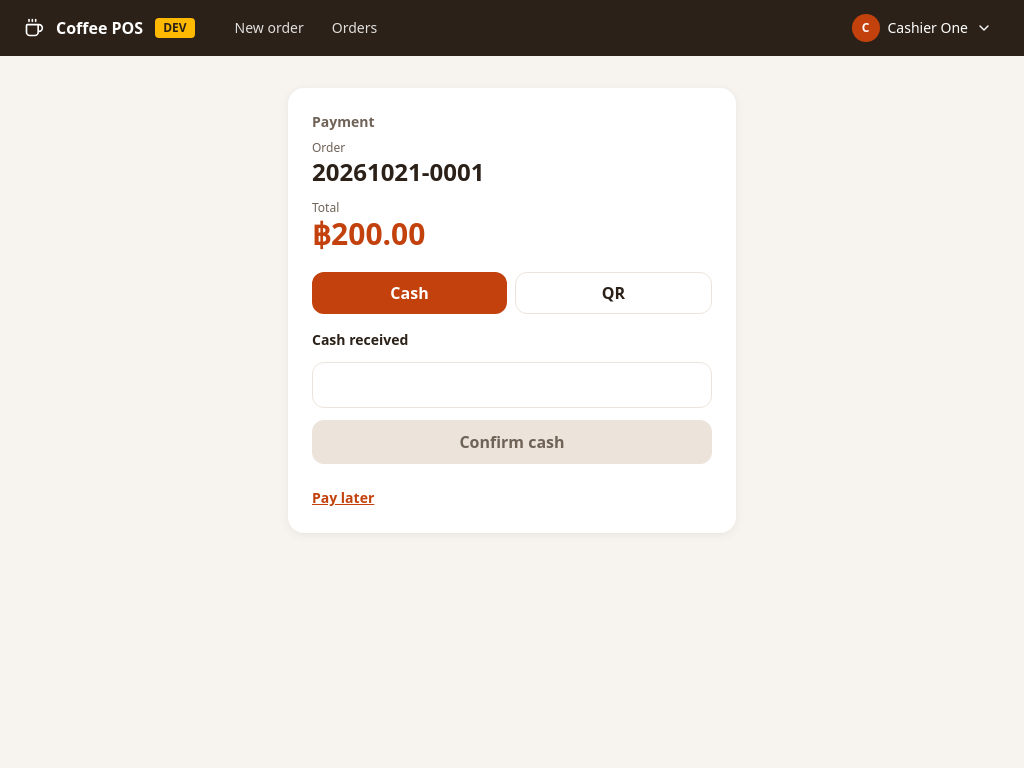
Test: PaymentPage › shows change for enough cash and enables Confirm
Type "250" into the field labelled "Cash received".
click(512, 385); type("250")  # box [312,362,712,408]
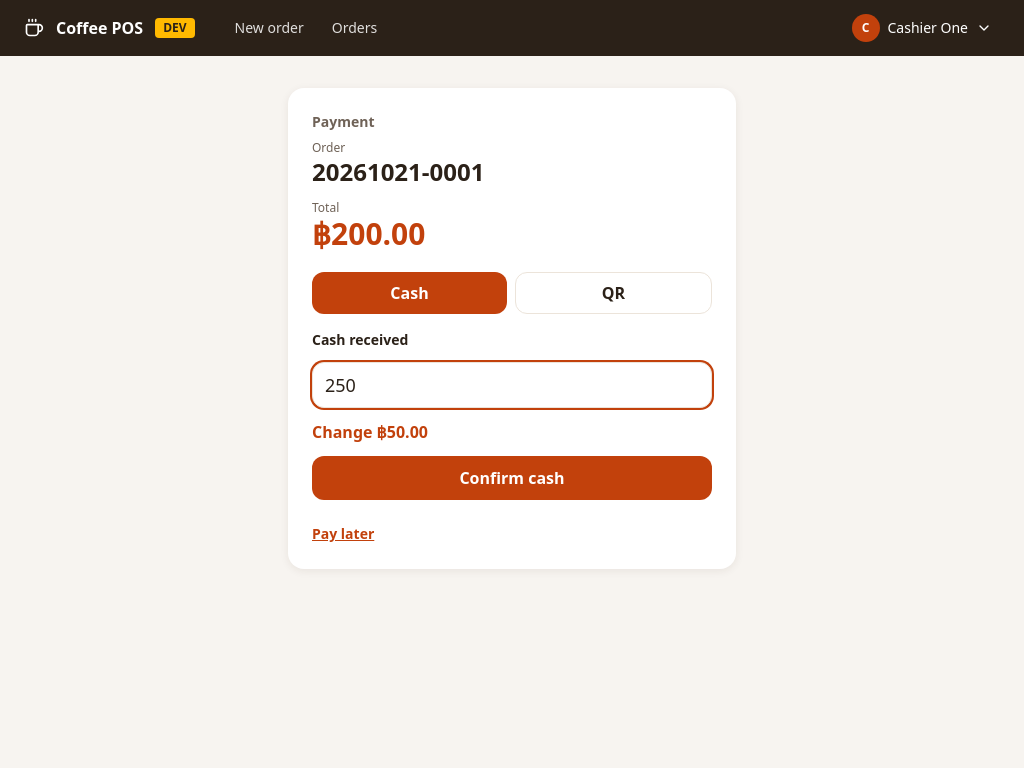
Result: the text "Change ฿50.00" is shown at [312,421,428,443]
Result: the button "Confirm cash" is enabled at [312,456,712,500]
